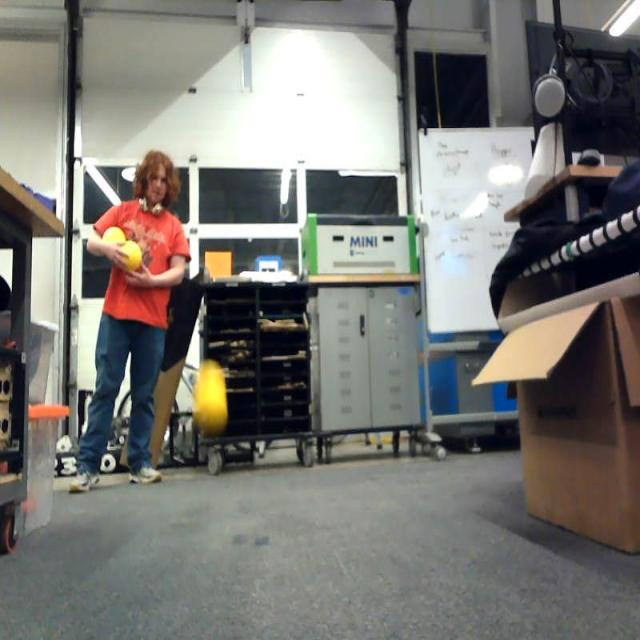Fuel: (197, 378, 227, 421), (119, 240, 142, 273), (103, 227, 126, 258)
